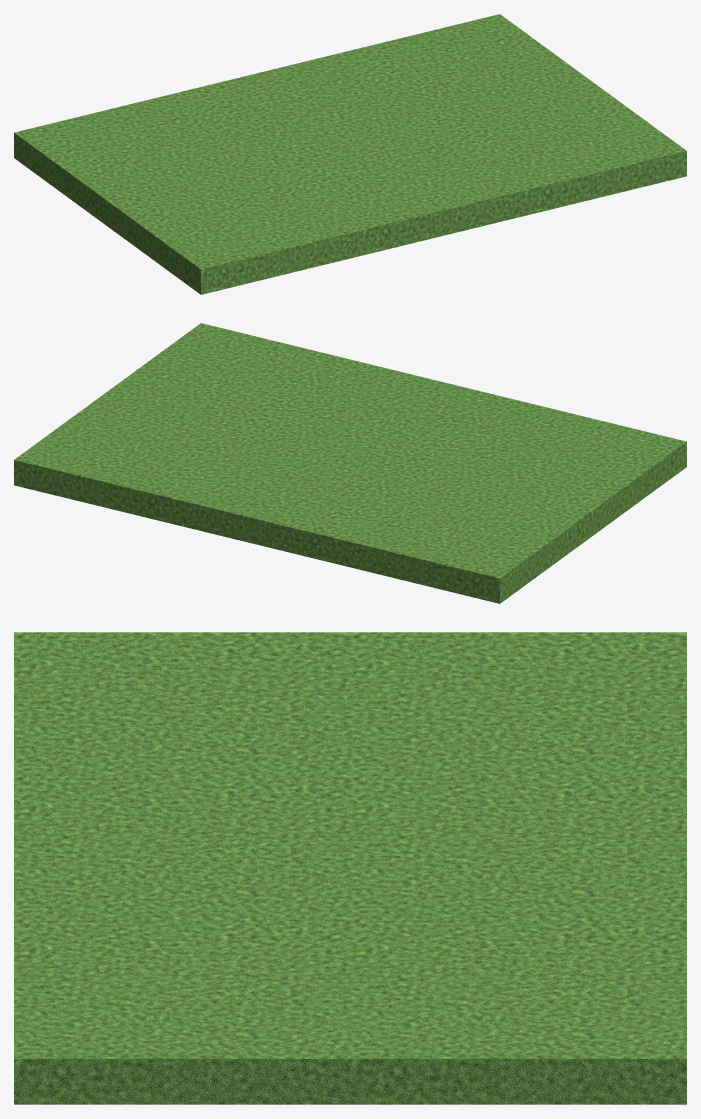
3 renders of one model, top to bottom at view 1: azimuth 30°, elevation 25°; view 2: azimuth 150°, elevation 25°; view 3: azimuth 270°, elevation 25°, orthographic. The views are drawn at different scales.
Visible parts, largest first — view 1: landscape.lawn_area; view 2: landscape.lawn_area; view 3: landscape.lawn_area.
Part boxes in pixels (x1=…): landscape.lawn_area: x1=14, y1=14, x2=686, y2=294; landscape.lawn_area: x1=14, y1=323, x2=686, y2=603; landscape.lawn_area: x1=14, y1=632, x2=686, y2=1104.
Bounding box in the file's own units: 3 × 2 × 0.15.
Materials: 1 (1 with a texture image).
